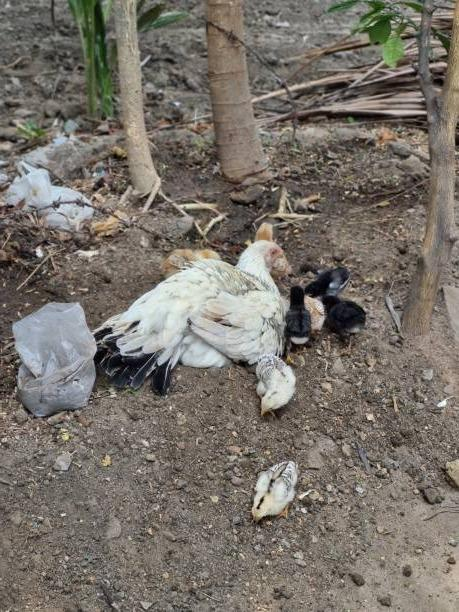AbNormal: (94, 205, 312, 400)
